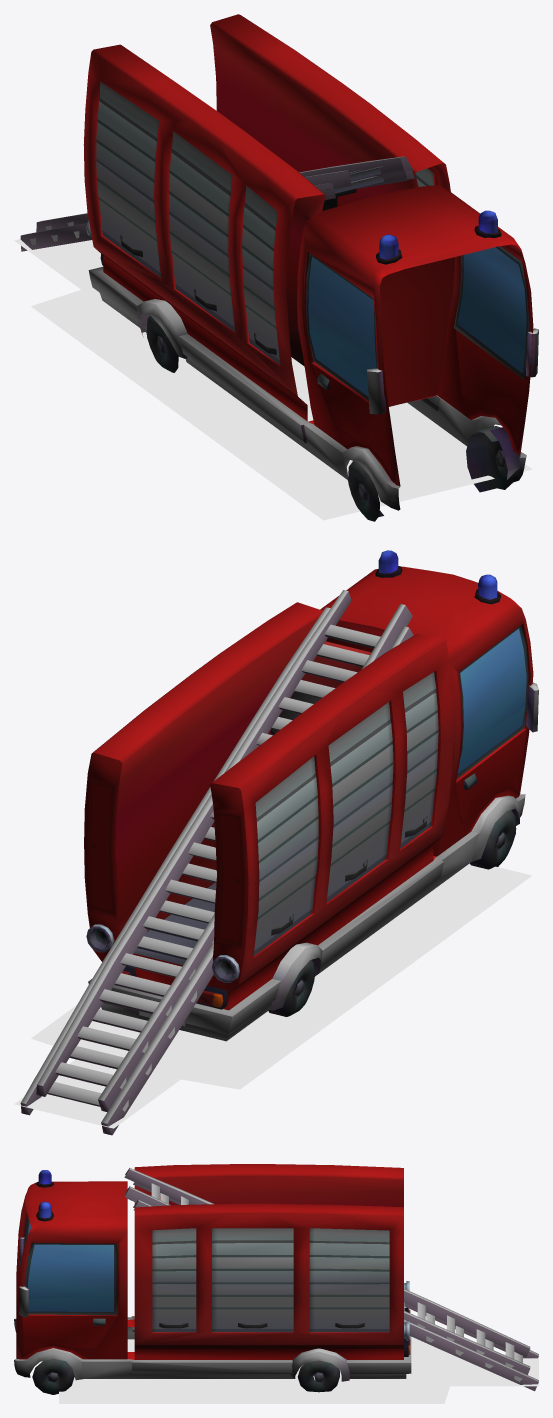
Rendered from City_Ramp5_FireTruckRamp02 1.fbx.
The picture shows the model from 3 angles, top to bottom: view 1: azimuth 30°, elevation 25°; view 2: azimuth 150°, elevation 25°; view 3: azimuth 270°, elevation 25°; orthographic projection. The views are drawn at different scales.
Parts seen in each view (by area): view 1: city_ramp5_fireTruckRamp02, truckTrailor01Shadow; view 2: city_ramp5_fireTruckRamp02, truckTrailor01Shadow; view 3: city_ramp5_fireTruckRamp02, truckTrailor01Shadow.
Boxes of the visible parts, x1,y1,x2,y2 form: city_ramp5_fireTruckRamp02: [20, 14, 538, 521]; truckTrailor01Shadow: [14, 239, 532, 520]; city_ramp5_fireTruckRamp02: [20, 550, 538, 1135]; truckTrailor01Shadow: [14, 863, 532, 1128]; city_ramp5_fireTruckRamp02: [14, 1164, 538, 1394]; truckTrailor01Shadow: [59, 1336, 538, 1403].
Size of the model in its own units: 148 by 204 by 487.
